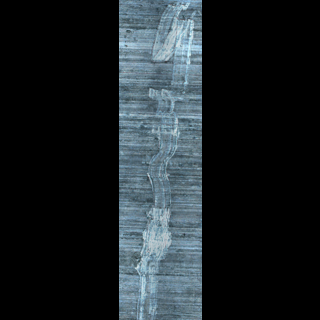d: (130, 2, 196, 320)
